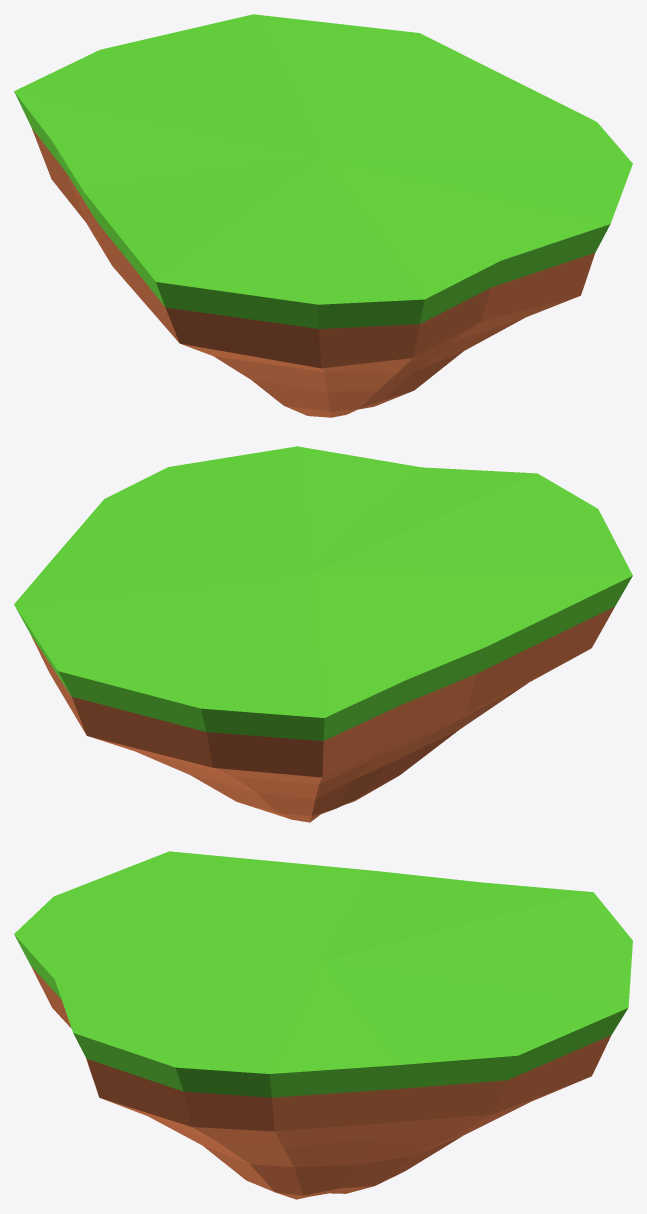
Rendered from Island4.fbx.
The picture shows the model from 3 angles, top to bottom: view 1: azimuth 30°, elevation 25°; view 2: azimuth 150°, elevation 25°; view 3: azimuth 270°, elevation 25°; orthographic projection. The views are drawn at different scales.
Parts seen in each view (by area): view 1: Island 4; view 2: Island 4; view 3: Island 4.
Boxes of the visible parts, x1=… form: Island 4: x1=14, y1=14, x2=632, y2=417; Island 4: x1=14, y1=446, x2=632, y2=822; Island 4: x1=14, y1=851, x2=632, y2=1199.
Bounding box in the file's own units: 1379 × 642 × 1627.
